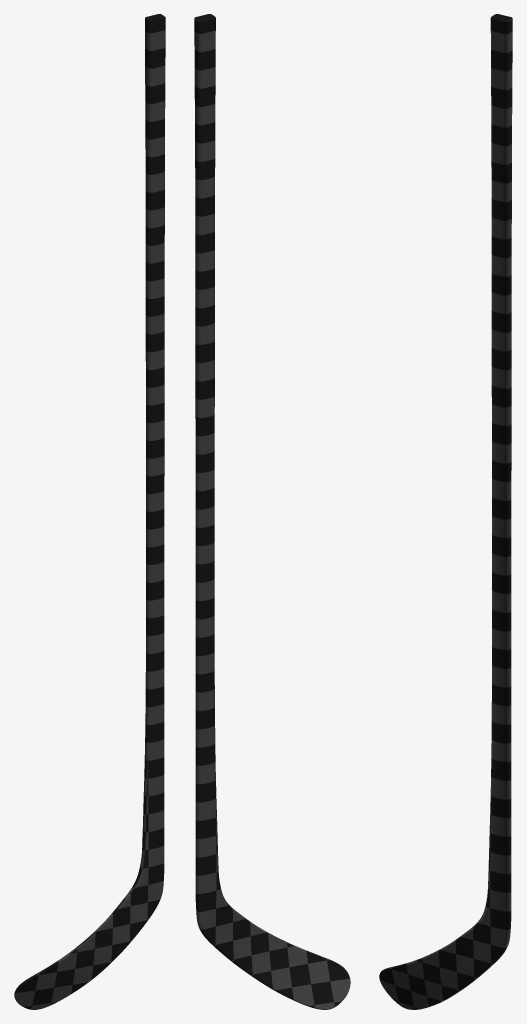
The model's file is P69-SBO.glb.
3 views of the same model, side by side, from view 1: azimuth 30°, elevation 25°; view 2: azimuth 210°, elevation 25°; view 3: azimuth 330°, elevation 25° (orthographic). The views are drawn at different scales.
Visible parts, largest first — view 1: geometry_0; view 2: geometry_0; view 3: geometry_0.
Part boxes in pixels (left/top/right/bottom): geometry_0: left=14, top=14, right=165, bottom=1009; geometry_0: left=194, top=14, right=350, bottom=1009; geometry_0: left=379, top=14, right=512, bottom=1009.
Bounding box in the file's own units: 242 × 1650 × 56.41.
1 material, 1 textured.
